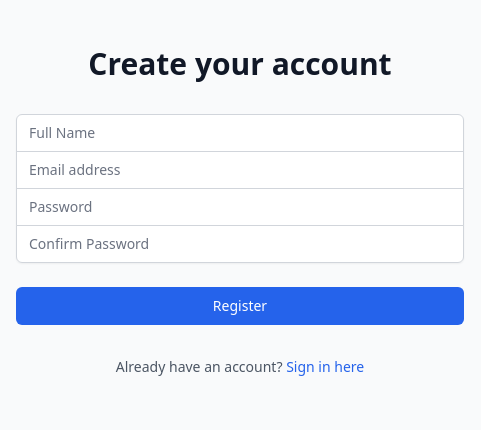
Register Component › handles successful registration
Type "John Doe" into the field with placeholder "Full Name" at (240, 132), box [16, 114, 464, 152]
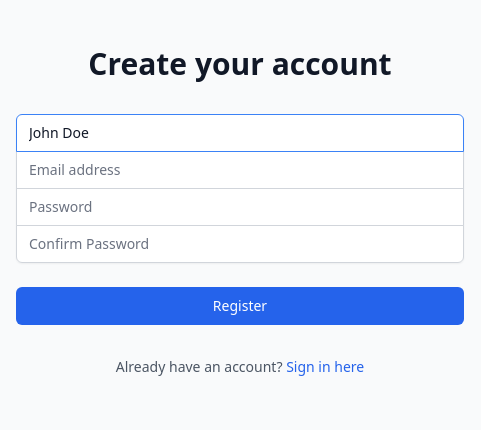
Type "john@example.com" into the field with placeholder "Email address" at (240, 170), box [16, 150, 464, 188]
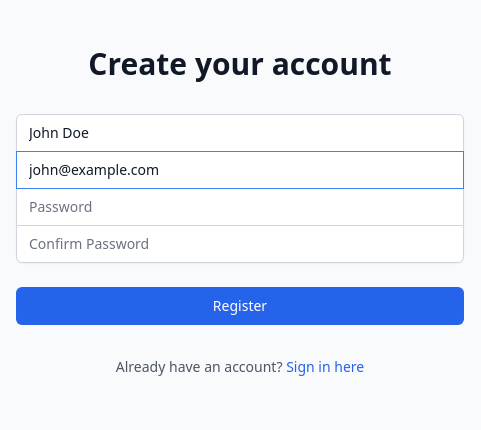
Type "password123" into the password field with placeholder "Password" at (240, 206), box [16, 188, 464, 226]
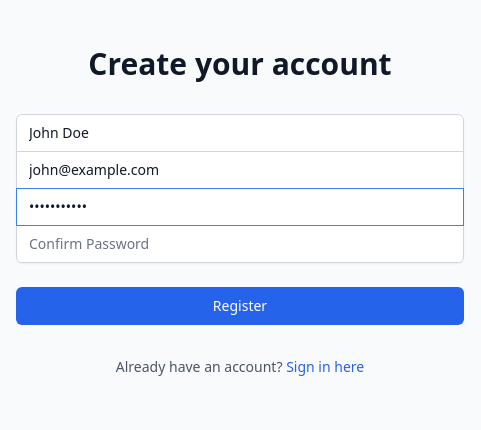
Type "password123" into the password field with placeholder "Confirm Password" at (240, 244), box [16, 224, 464, 262]
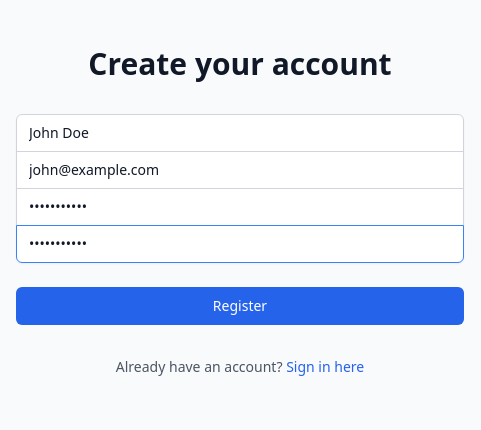
Click the button "Register" at (240, 306), box [16, 286, 464, 324]
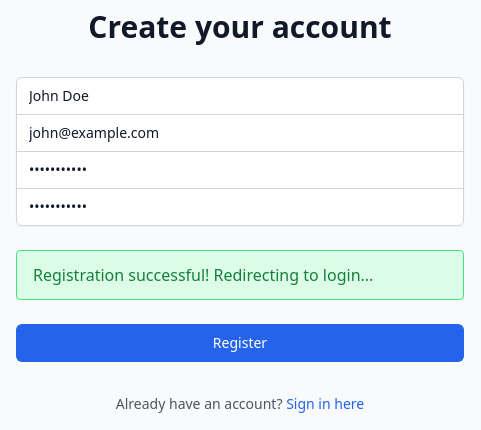
expect the text "Registration successful! Redirecting to login..." is shown: met, box [16, 250, 464, 300]
